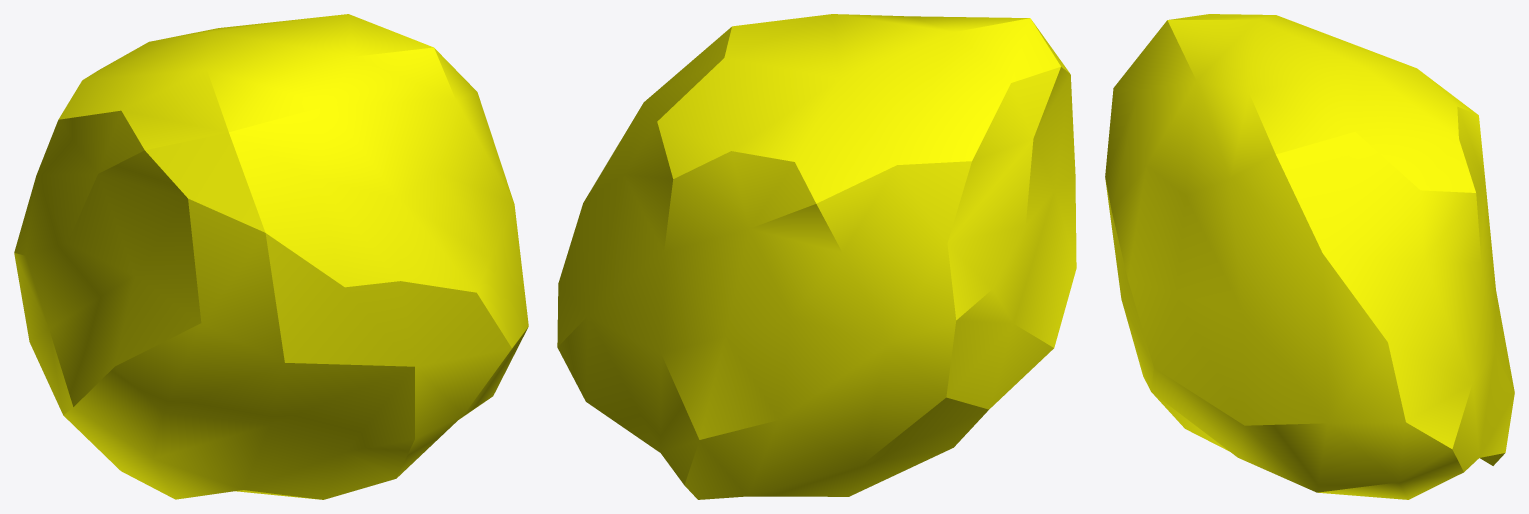
File: kaykit-rock-3-j-color-1.glb
The picture shows the model from 3 angles, left to right: view 1: azimuth 30°, elevation 25°; view 2: azimuth 150°, elevation 25°; view 3: azimuth 270°, elevation 25°; orthographic projection. The views are drawn at different scales.
Visible parts, largest first — view 1: Rock_3_J_Color1; view 2: Rock_3_J_Color1; view 3: Rock_3_J_Color1.
Boxes of the visible parts, bbox=[...] form: Rock_3_J_Color1: bbox=[14, 14, 528, 499]; Rock_3_J_Color1: bbox=[557, 14, 1076, 499]; Rock_3_J_Color1: bbox=[1105, 14, 1514, 499].
Bounding box in the file's own units: 1.97 × 1.9 × 1.74.
